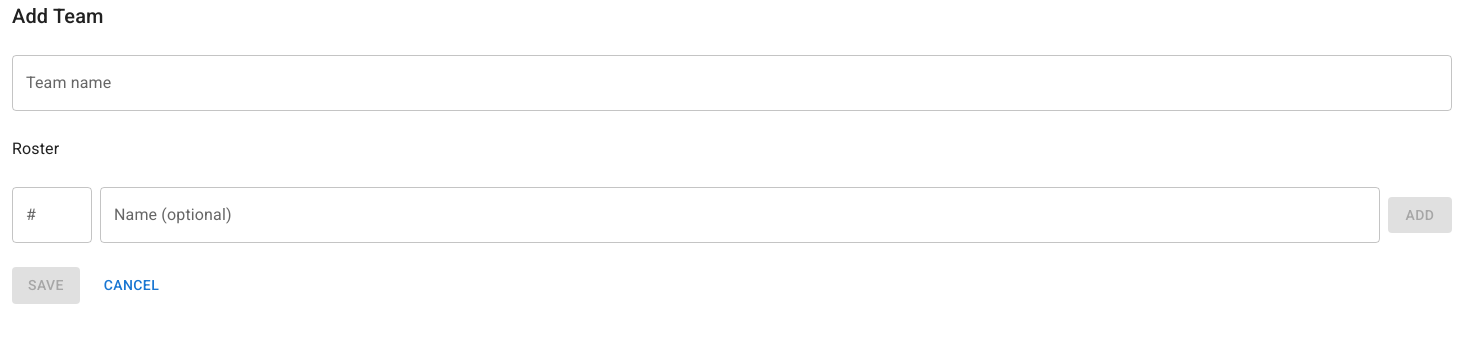
it: TeamEditor › disables Add until a number is entered, and refocuses the # field after adding
The image size is (1464, 351).
Expected: the button "Add" is disabled, [1388, 197, 1452, 233]
Type "9" into the field labelled "#" at (52, 215), box [12, 187, 92, 243]
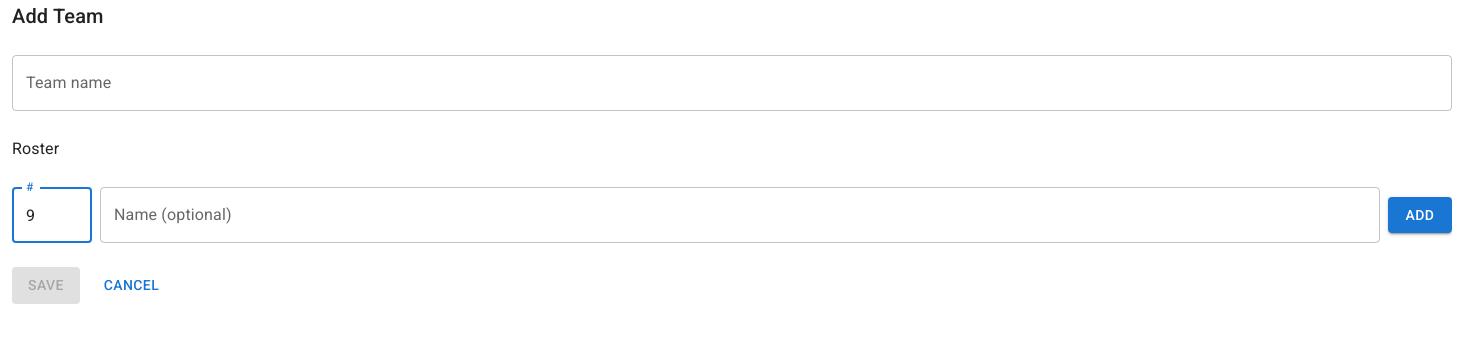
Type "Alex" into the field labelled "Name (optional)" at (740, 215), box [100, 187, 1380, 243]
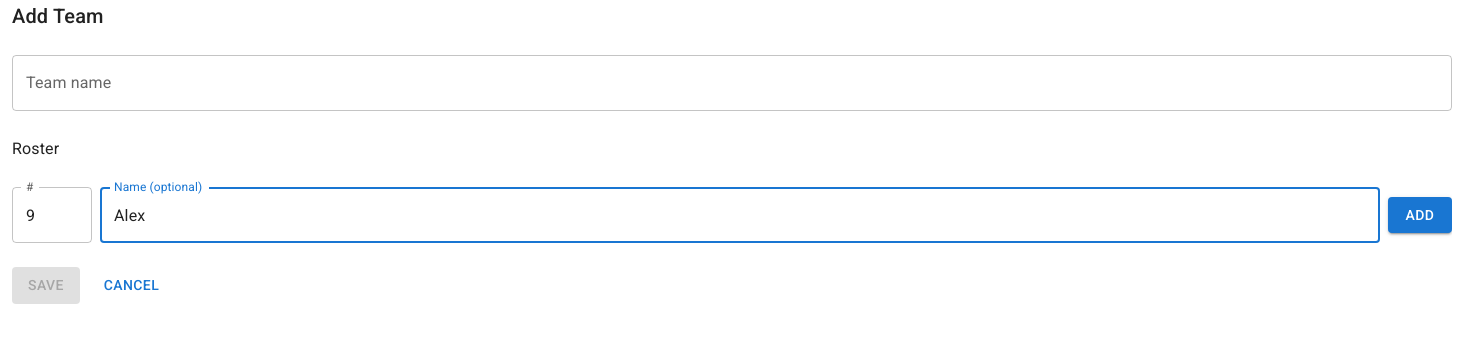
Click the button "Add" at (1420, 215), box [1388, 197, 1452, 233]
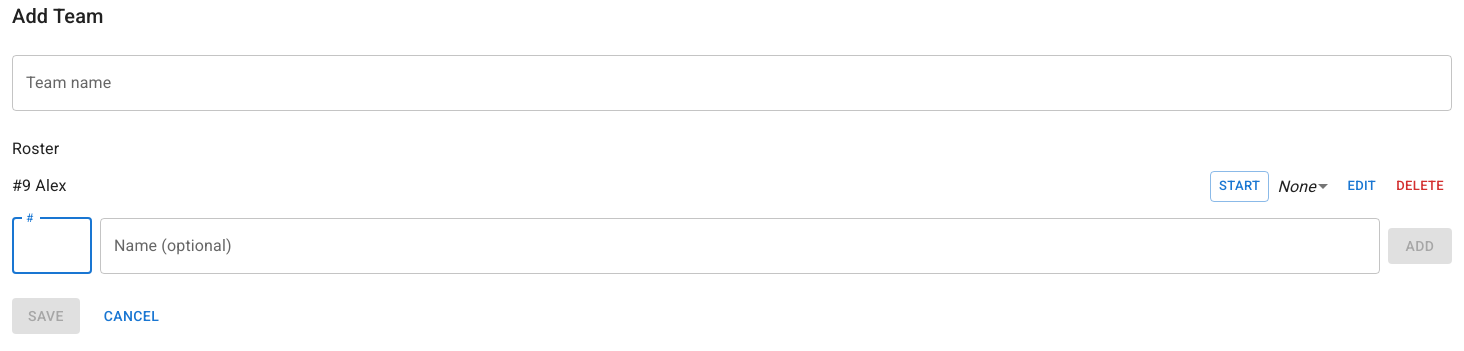
Now the field labelled "#" is empty, box [12, 218, 92, 274]
Now the field labelled "Name (optional)" is empty, box [100, 218, 1380, 274]
Now the button "Add" is disabled, box [1388, 228, 1452, 264]
